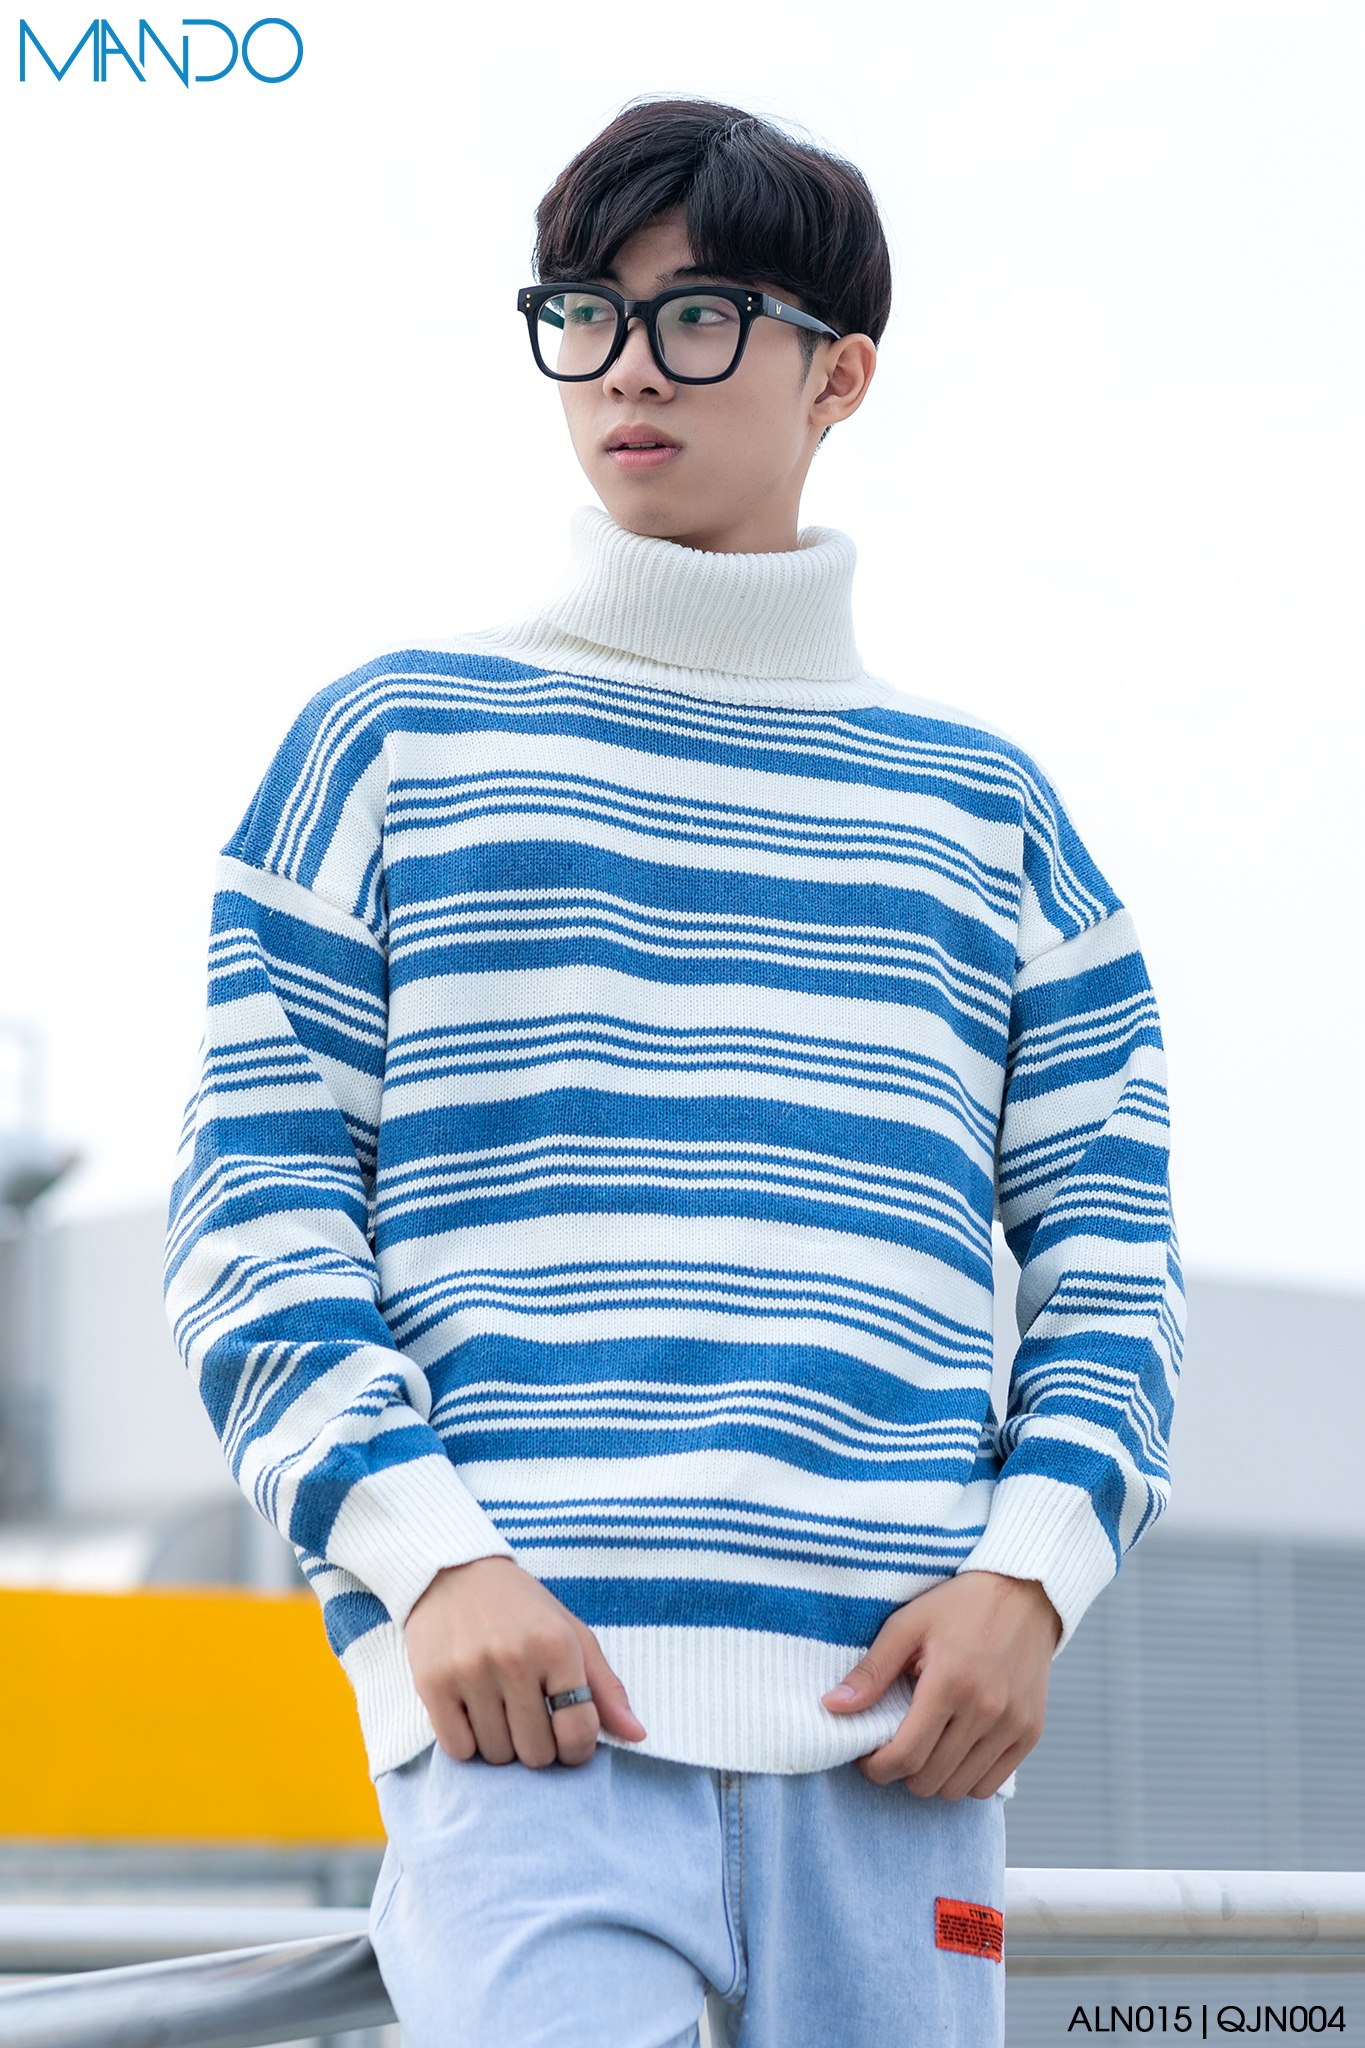person: (158, 98, 1190, 2048)
